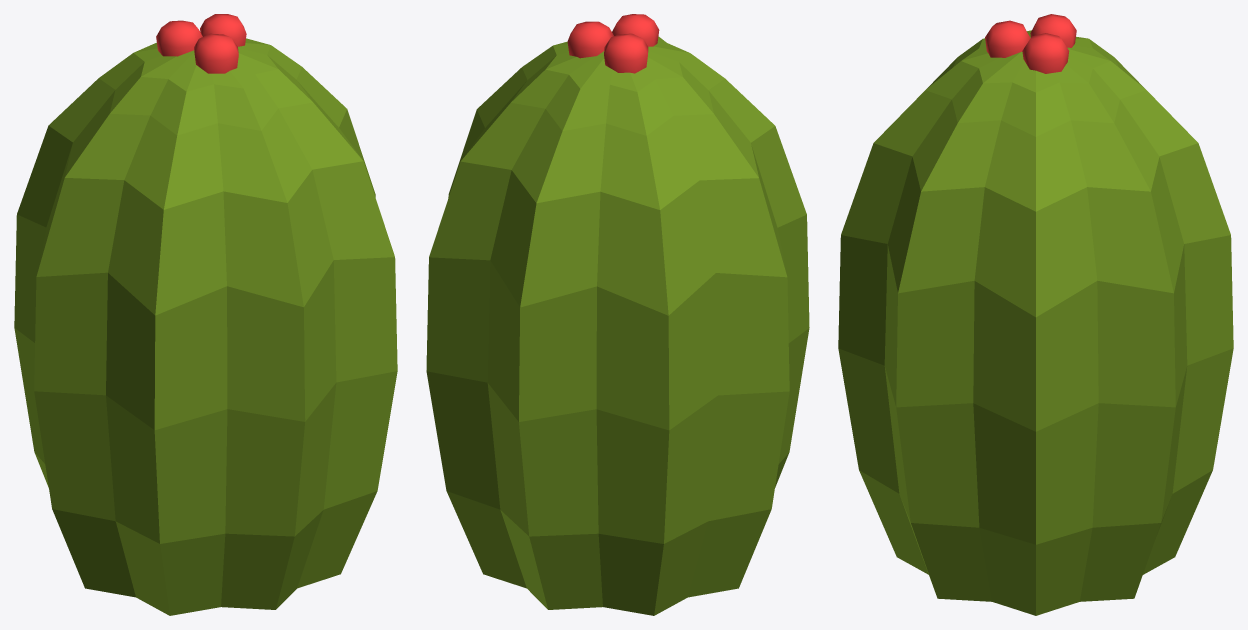
The model's file is Cactus_22_A.fbx.
3 renders of one model, left to right at view 1: azimuth 30°, elevation 25°; view 2: azimuth 150°, elevation 25°; view 3: azimuth 270°, elevation 25°, orthographic.
Visible parts, largest first — view 1: Cactus_22_A; view 2: Cactus_22_A; view 3: Cactus_22_A.
Part boxes in pixels (x1,y1,x2,y2): Cactus_22_A: (14, 14, 397, 615); Cactus_22_A: (426, 14, 809, 615); Cactus_22_A: (838, 14, 1233, 615).
Bounding box in the file's own units: 104 × 154 × 104.
